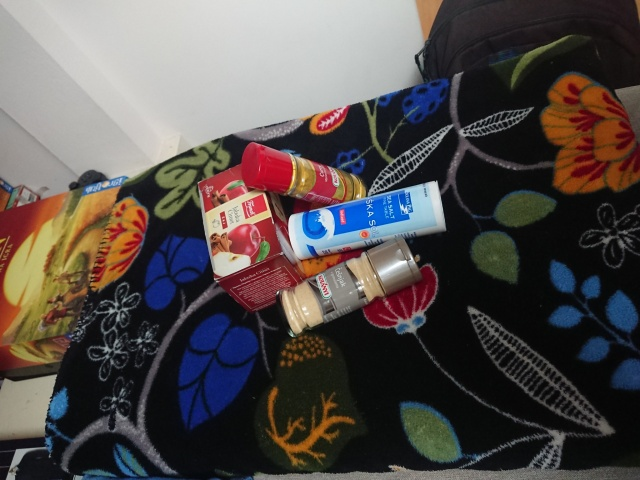Franck Apple Cinnamon Tea 60g: (194, 156, 309, 317)
Kotanyi Curry Spices Mix 70g: (239, 139, 369, 217)
Kotanyi Garlic Granules 70g: (273, 233, 425, 340)
Solana Pag Fine Sea Salt 250g: (286, 178, 452, 262)
